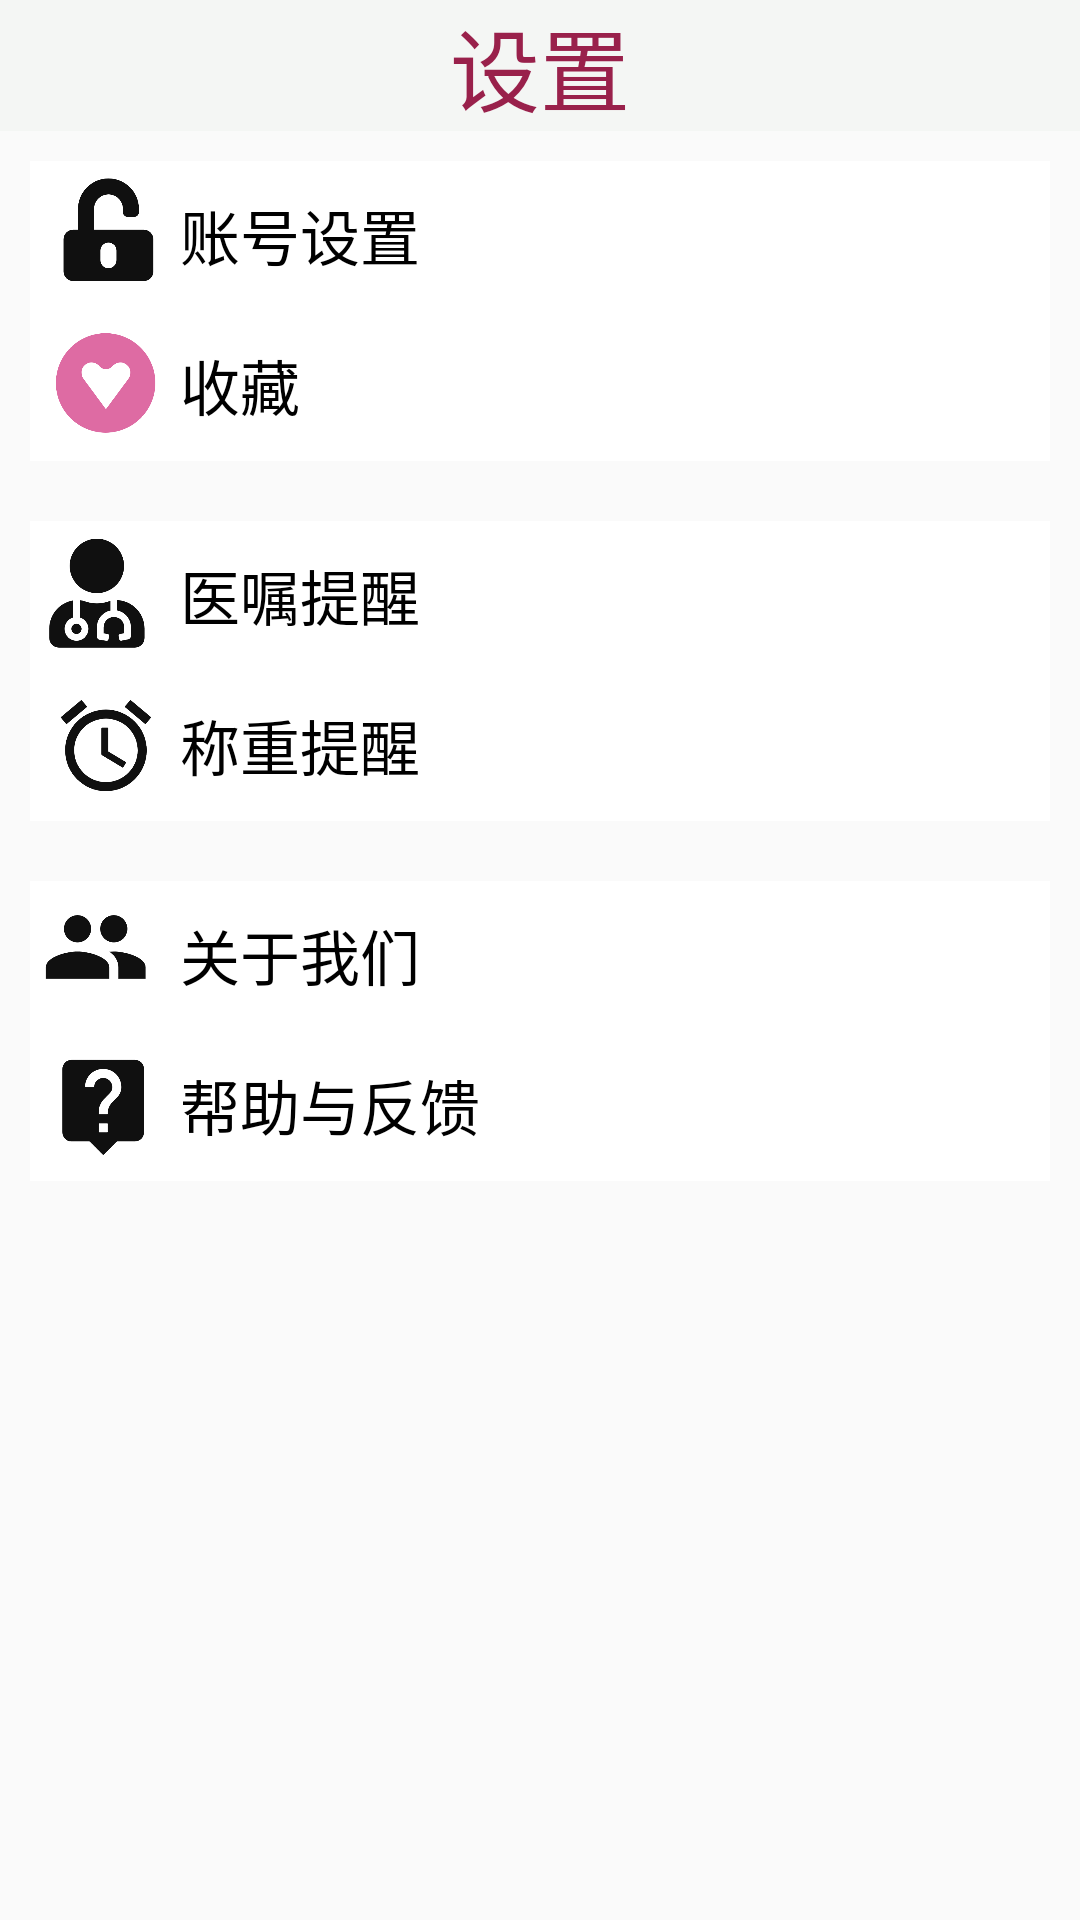

Where icons sit on this 1080 × 1920 app screen, as [x1, y1, x2, y2]:
like: [56, 333, 155, 433]
